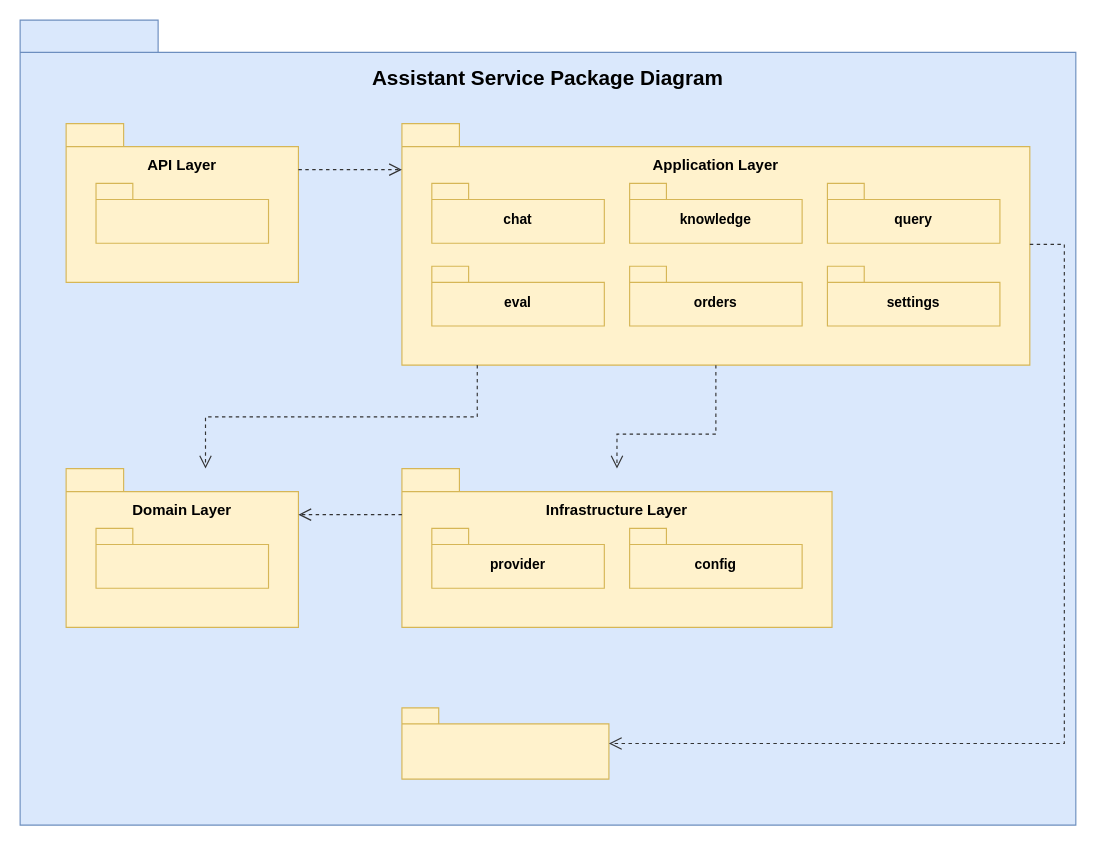
This 1097x845 diagram has some shape labels left out. Here are the shapes that lost their labels. From the top down, the centre of each, then its label:
At point 182,212: "controller".
At point 182,557: "model (JDBC rows)".
At point 505,743: "common-lib".
